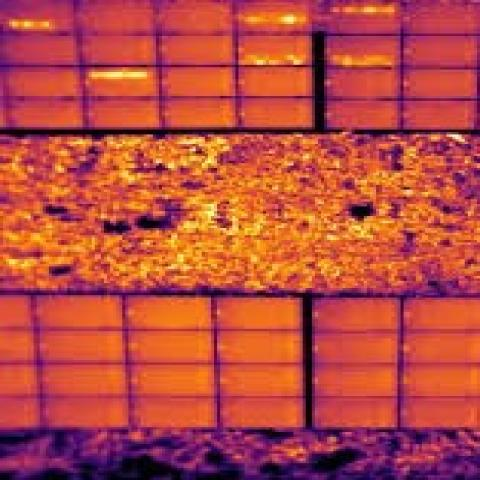fault: (88, 70, 150, 82), (361, 55, 388, 65), (364, 7, 397, 14), (333, 55, 355, 65), (245, 55, 266, 65), (287, 55, 303, 65), (330, 7, 358, 12), (21, 22, 37, 29), (248, 17, 260, 24), (282, 17, 294, 24), (40, 22, 52, 27), (10, 22, 18, 27)
